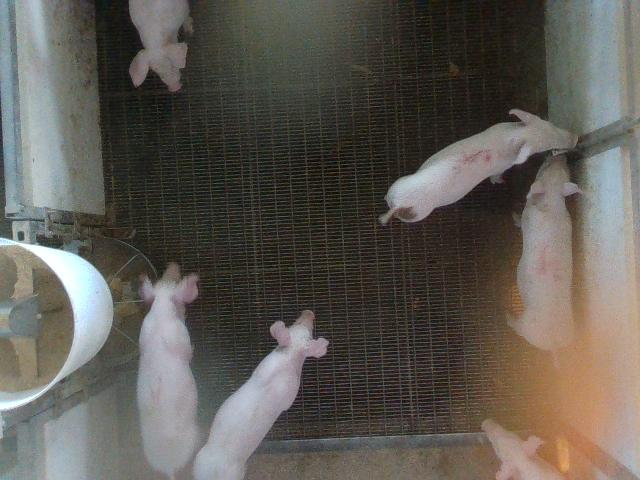pig-4: (508, 150, 581, 361)
pig-5: (379, 109, 578, 224)
